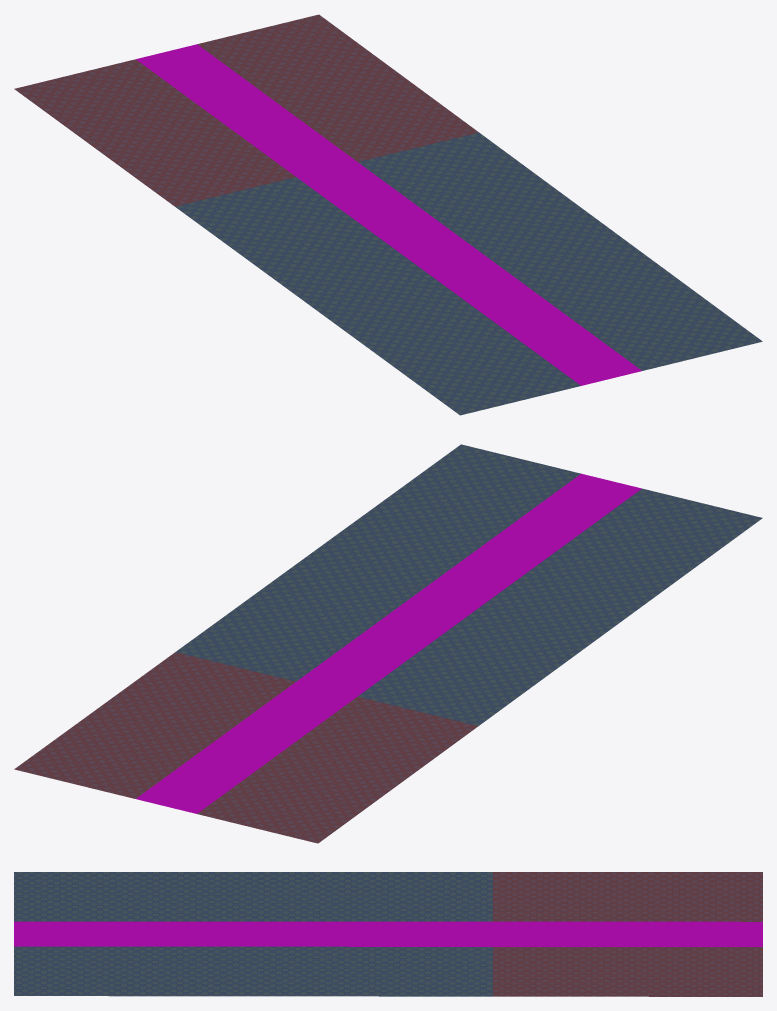
The model's file is floor_2.fbx.
The picture shows the model from 3 angles, top to bottom: view 1: azimuth 30°, elevation 25°; view 2: azimuth 150°, elevation 25°; view 3: azimuth 270°, elevation 25°; orthographic projection. The views are drawn at different scales.
Visible parts, largest first — view 1: floor_geo; view 2: floor_geo; view 3: floor_geo.
Boxes of the visible parts, x1,y1,x2,y2 form: floor_geo: (14, 14, 762, 415); floor_geo: (14, 444, 762, 843); floor_geo: (14, 872, 762, 996).
Size of the model in its own units: 2432 by 0 by 6161.
3 materials, 2 textured.
